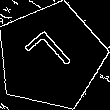L_SE: (22, 28, 80, 86)
